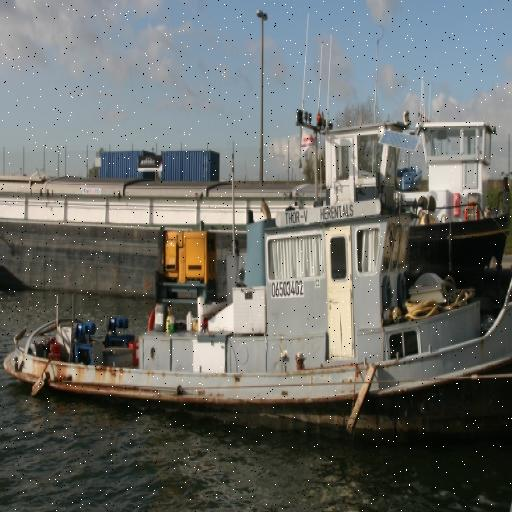tugboat: (2, 9, 512, 450)
